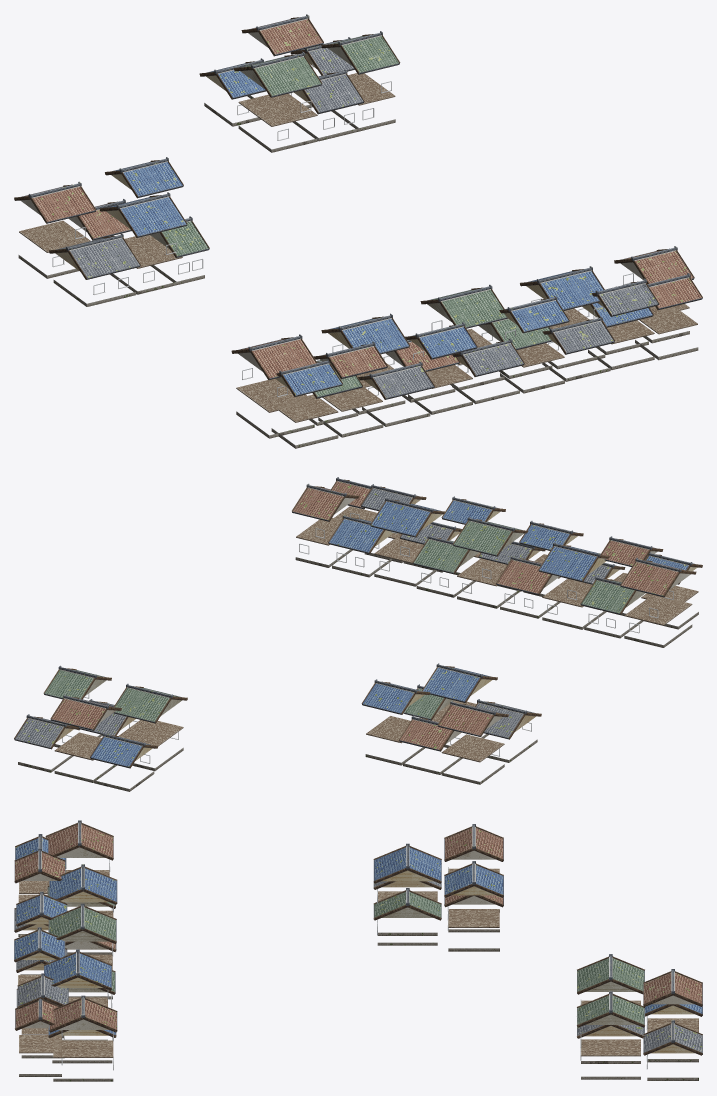
File: lane_back.glb
3 renders of one model, top to bottom at view 1: azimuth 30°, elevation 25°; view 2: azimuth 150°, elevation 25°; view 3: azimuth 270°, elevation 25°, orthographic. The views are drawn at different scales.
Visible parts, largest first — view 1: lane_back; view 2: lane_back; view 3: lane_back.
Part boxes in pixels (<box>): lane_back: <box>14,14,702,448</box>; lane_back: <box>14,477,702,791</box>; lane_back: <box>14,820,702,1081</box>.
Size of the model in its own units: 53.26 by 9.61 by 81.01.
Materials: 1 (1 with a texture image).
